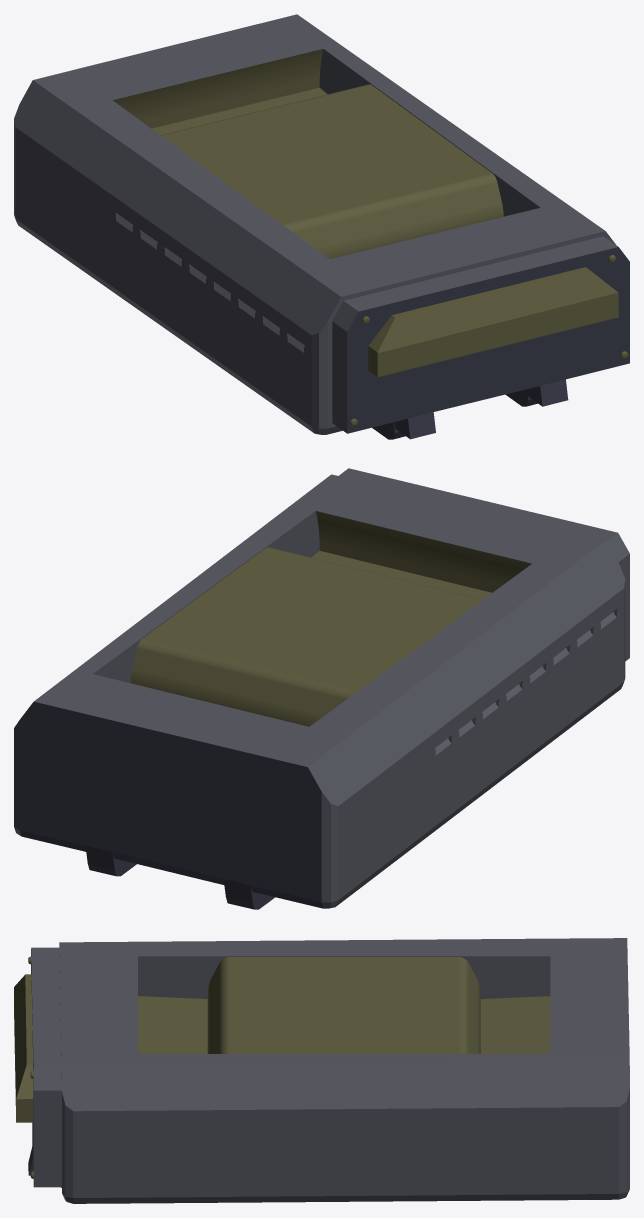
File: 大门主体层_005.fbx
3 views of the same model, one above another, from view 1: azimuth 30°, elevation 25°; view 2: azimuth 150°, elevation 25°; view 3: azimuth 270°, elevation 25° (orthographic). The views are drawn at different scales.
Visible parts, largest first — view 1: 大门主体层.005; view 2: 大门主体层.005; view 3: 大门主体层.005.
Boxes of the visible parts, x1,y1,x2,y2 form: 大门主体层.005: (14, 14, 629, 439); 大门主体层.005: (14, 468, 629, 909); 大门主体层.005: (14, 938, 629, 1203).
Bounding box in the file's own units: 3.16 × 1.48 × 5.52.
